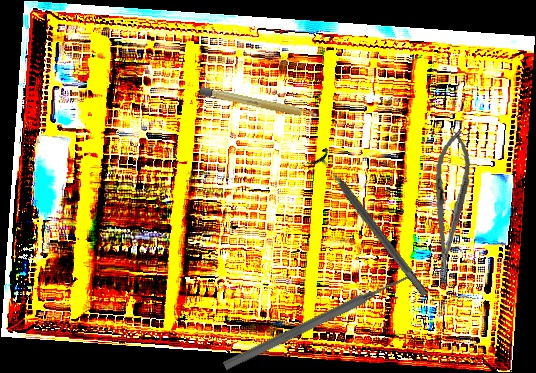Fixation Ring: (304, 146, 437, 304)
Needle Holder: (423, 128, 476, 278)
Pusher: (221, 267, 420, 373)
Scalpel Handle: (198, 86, 320, 121)
